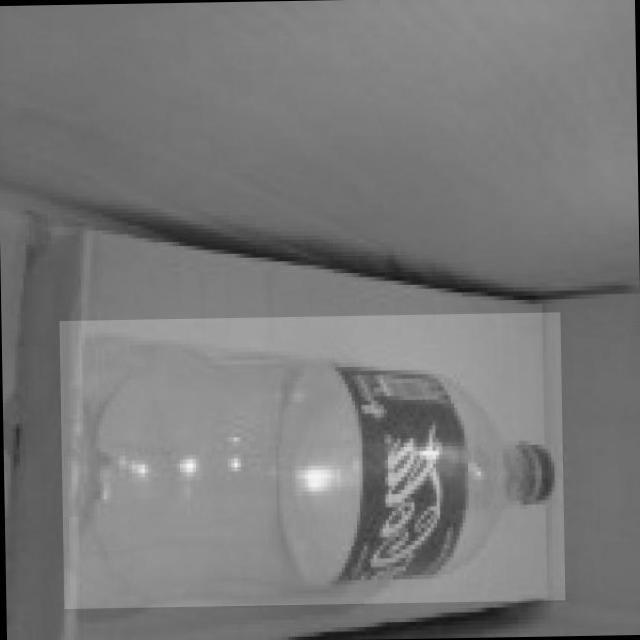good: (59, 312, 565, 608)
